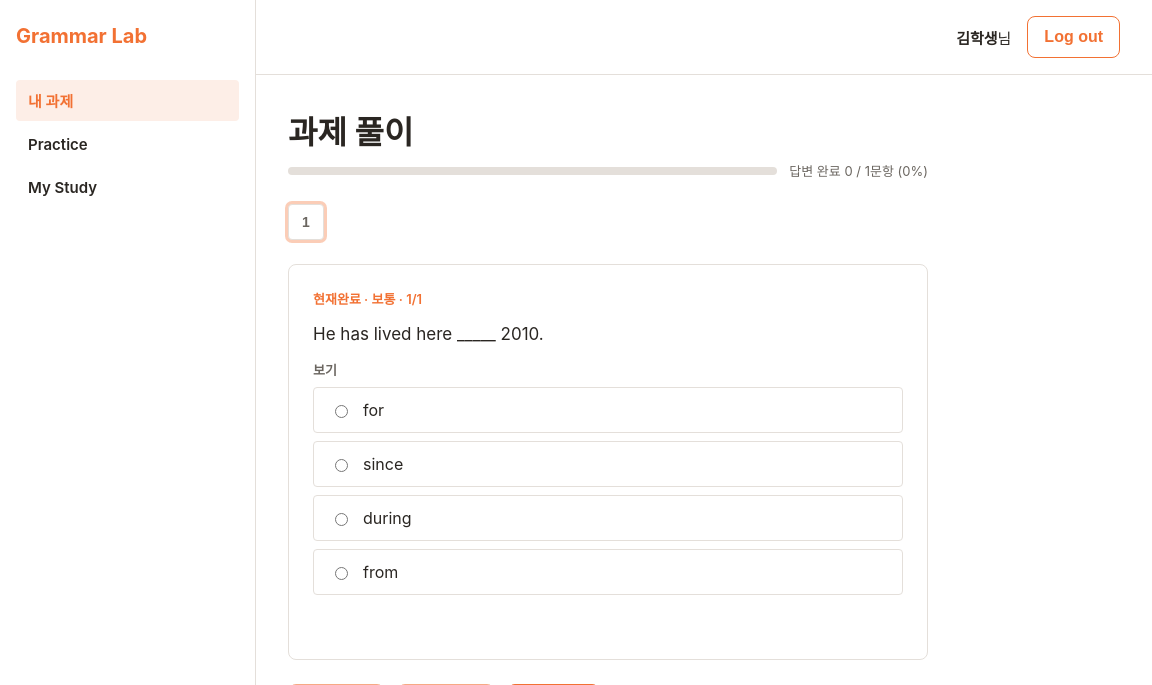
Test: StudentAssignmentSolvePage › saves the selected answer via PUT and shows saving/saved status
Expected: the text "He has lived here _____ 2010." is shown, [313,324,544,344]
Click the radio button labelled "since" at (342, 466), box [335,459,348,472]
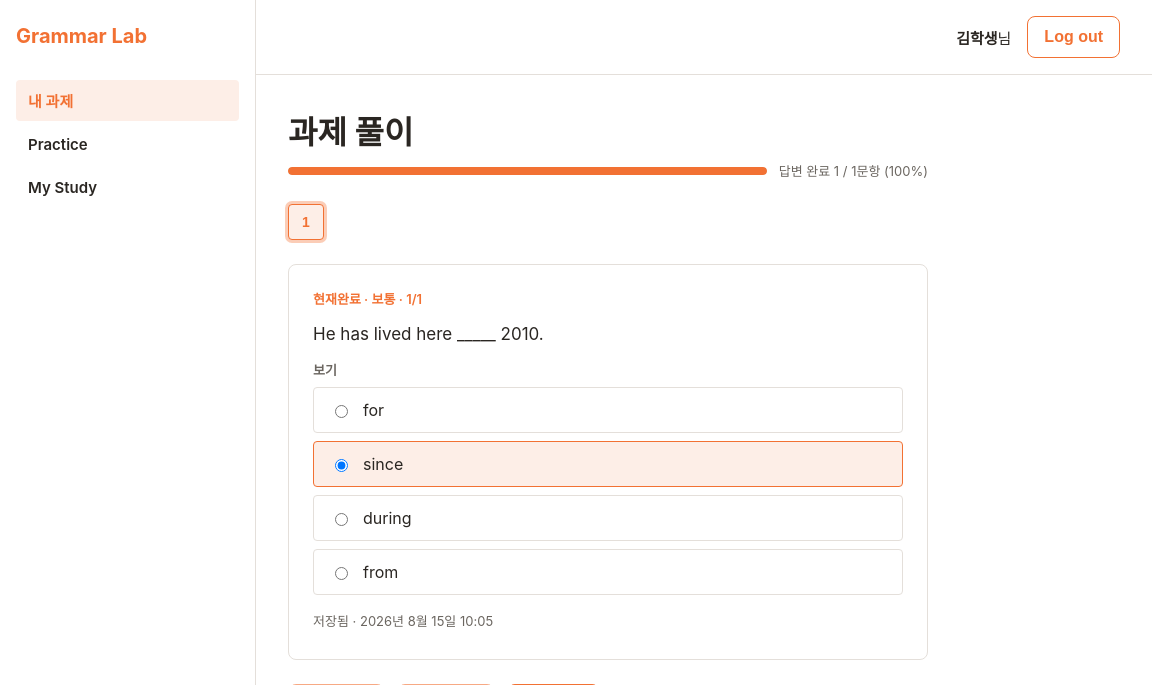
Expected: the text "저장됨 · 2026년 8월 15일 10:05" is shown, [313,613,493,629]
